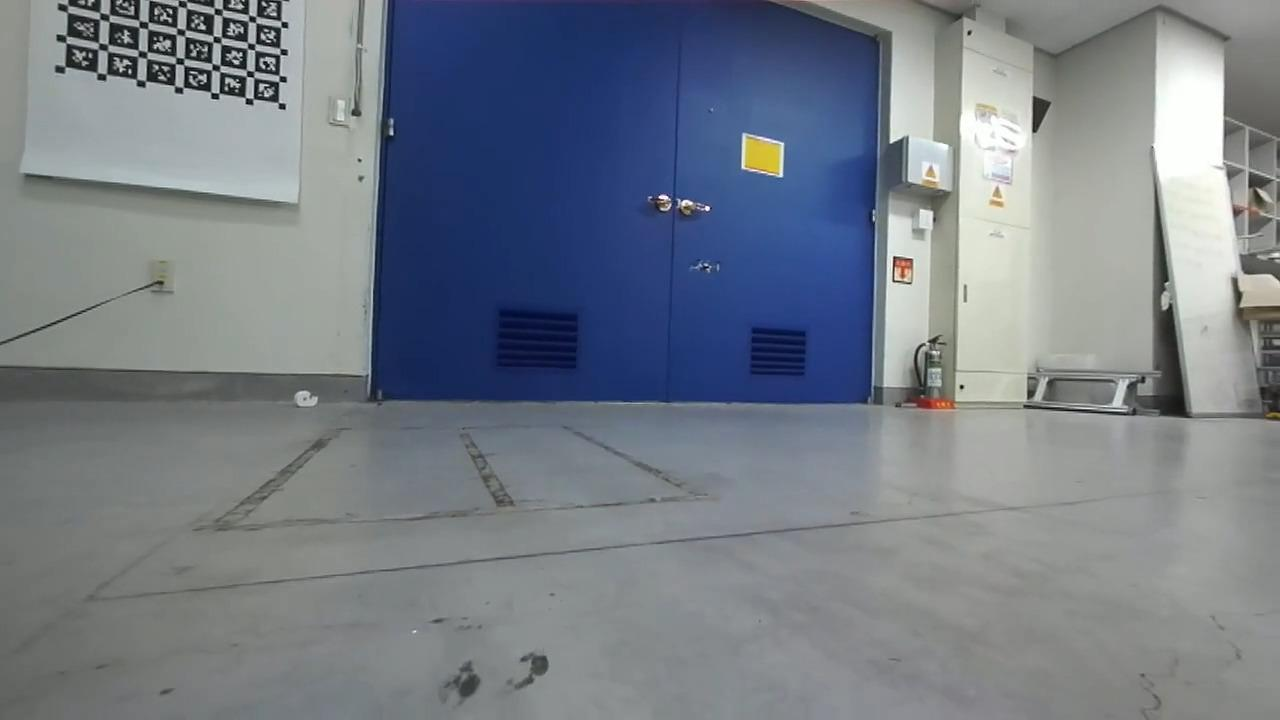crazyflie: (680, 253, 731, 281)
